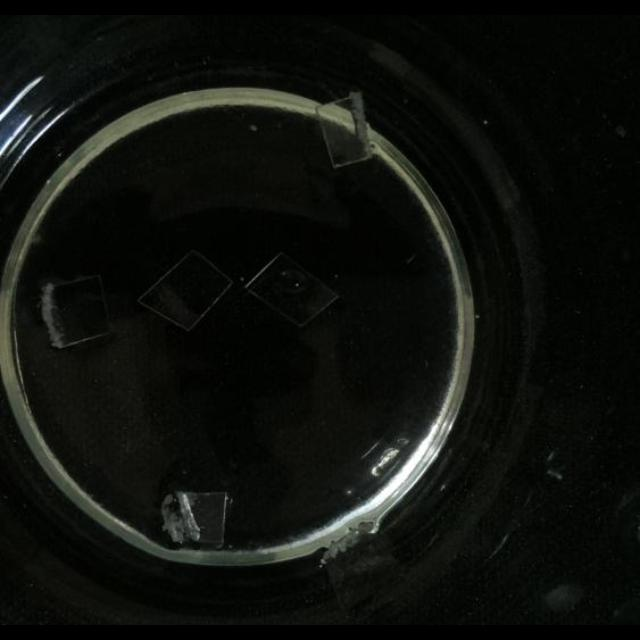Film: (314, 518, 402, 614), (243, 242, 337, 326), (140, 249, 228, 329), (34, 271, 116, 349), (158, 486, 232, 556), (315, 86, 373, 168)
